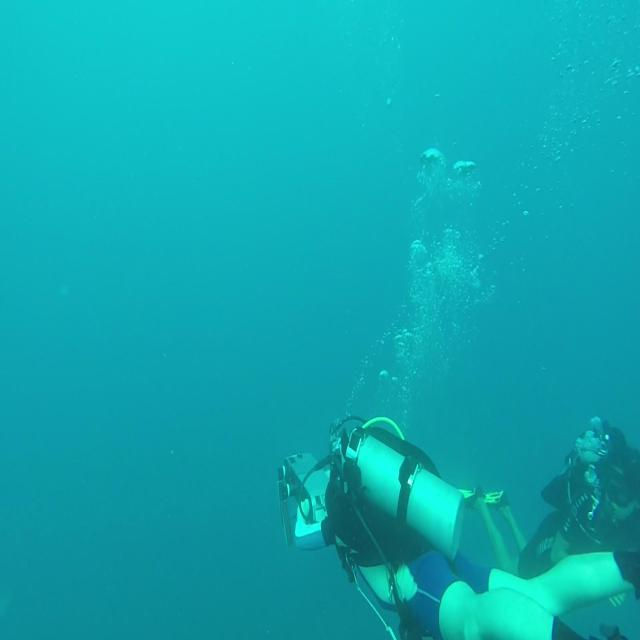human: (277, 413, 638, 638), (516, 415, 639, 601)
